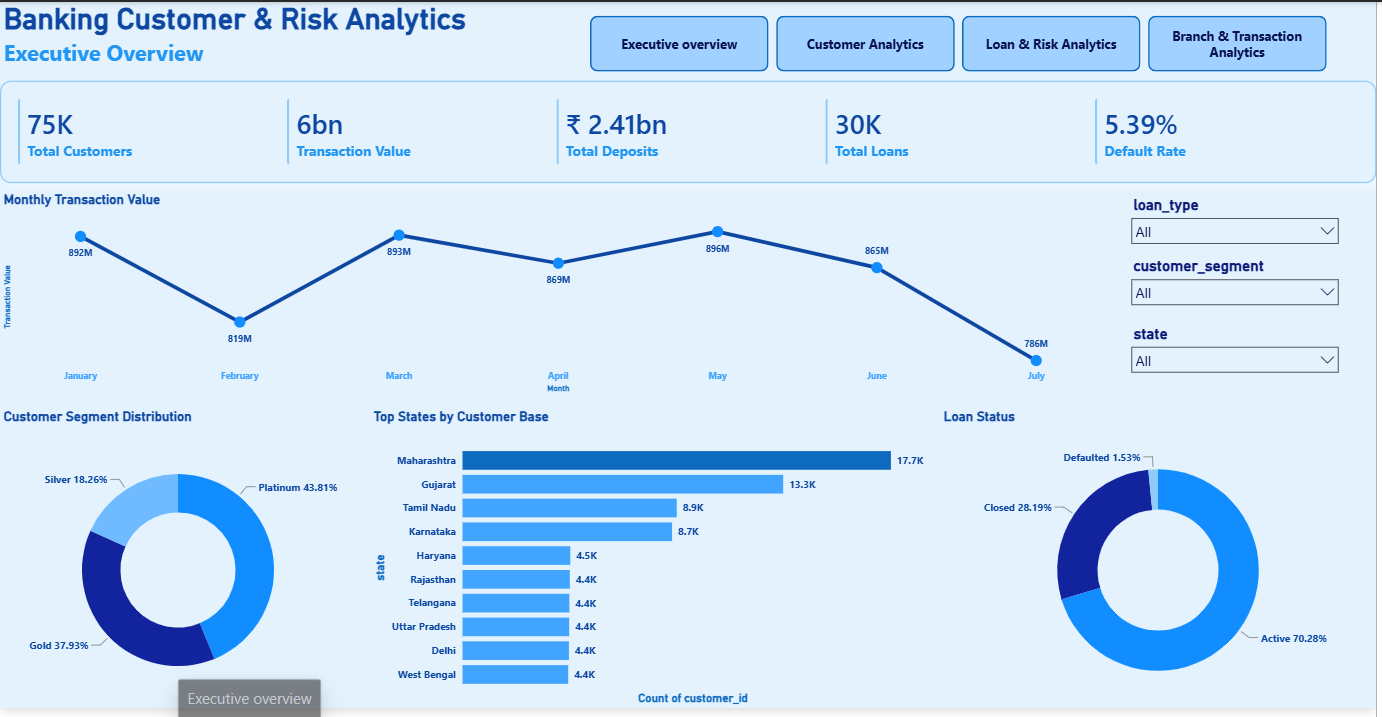

Layout of this report page (visuals, bound fields, positions):
{"tool":"powerbi","page":{"name":"Executive overview","canvas":[1850,950],"ordinal":0},"visuals":[{"type":"textbox","title":"Banking Customer & Risk Analytics ","box":[0,0,761.3,94.1],"z":0},{"type":"cardVisual","fields":{"Data":["new measures.Total Customers","new measures.Transaction Value","new measures.Total Deposits","new measures.Total Loans","new measures.Default Rate"]},"box":[0,105.9,1850.3,137.8],"z":1000},{"type":"lineChart","title":"Monthly Transaction Value","fields":{"Category":["transactions.date.Variation.Date Hierarchy.Month"],"Y":["new measures.Transaction Value"]},"box":[0,255.5,1484,275.6],"z":2000},{"type":"donutChart","title":"Customer Segment Distribution","fields":{"Category":["customers.customer_segment"],"Y":["CountNonNull(customers.customer_id)"]},"box":[0,546.2,479,403.3],"z":3000},{"type":"clusteredBarChart","title":"Top States by Customer Base","fields":{"Category":["customers.state"],"Y":["CountNonNull(customers.customer_id)"]},"box":[497.5,546.2,749.5,403.3],"z":4000},{"type":"donutChart","title":"Loan Status","fields":{"Category":["loans.loan_status"],"Y":["Sum(loans.loan_amount)"]},"box":[1263.8,546.2,586.5,403.3],"z":5000},{"type":"slicer","fields":{"Values":["customers.state"]},"box":[1510.9,428.6,299.1,79],"z":6000},{"type":"slicer","fields":{"Values":["loans.loan_type"]},"box":[1510.9,255.5,299.1,94.1],"z":7000},{"type":"slicer","fields":{"Values":["customers.customer_segment"]},"box":[1510.9,337.8,299.1,82.3],"z":8000},{"type":"pageNavigator","box":[793.2,18.5,991.6,75.6],"z":8001}]}

Visuals, with their boxes in screenshot pixels (x1, y1, x2, y2), scaled from the page's 1850x950 canvas onto the 1382x717 screenshot:
"Banking Customer & Risk Analytics " textbox: [0, 0, 569, 71]
cardVisual - new measures.Total Customers x new measures.Transaction Value: [0, 80, 1381, 184]
"Monthly Transaction Value" lineChart: [0, 193, 1109, 401]
"Customer Segment Distribution" donutChart: [0, 412, 358, 716]
"Top States by Customer Base" clusteredBarChart: [372, 412, 932, 716]
"Loan Status" donutChart: [944, 412, 1381, 716]
slicer - customers.state: [1129, 323, 1352, 383]
slicer - loans.loan_type: [1129, 193, 1352, 264]
slicer - customers.customer_segment: [1129, 255, 1352, 317]
pageNavigator: [593, 14, 1333, 71]
